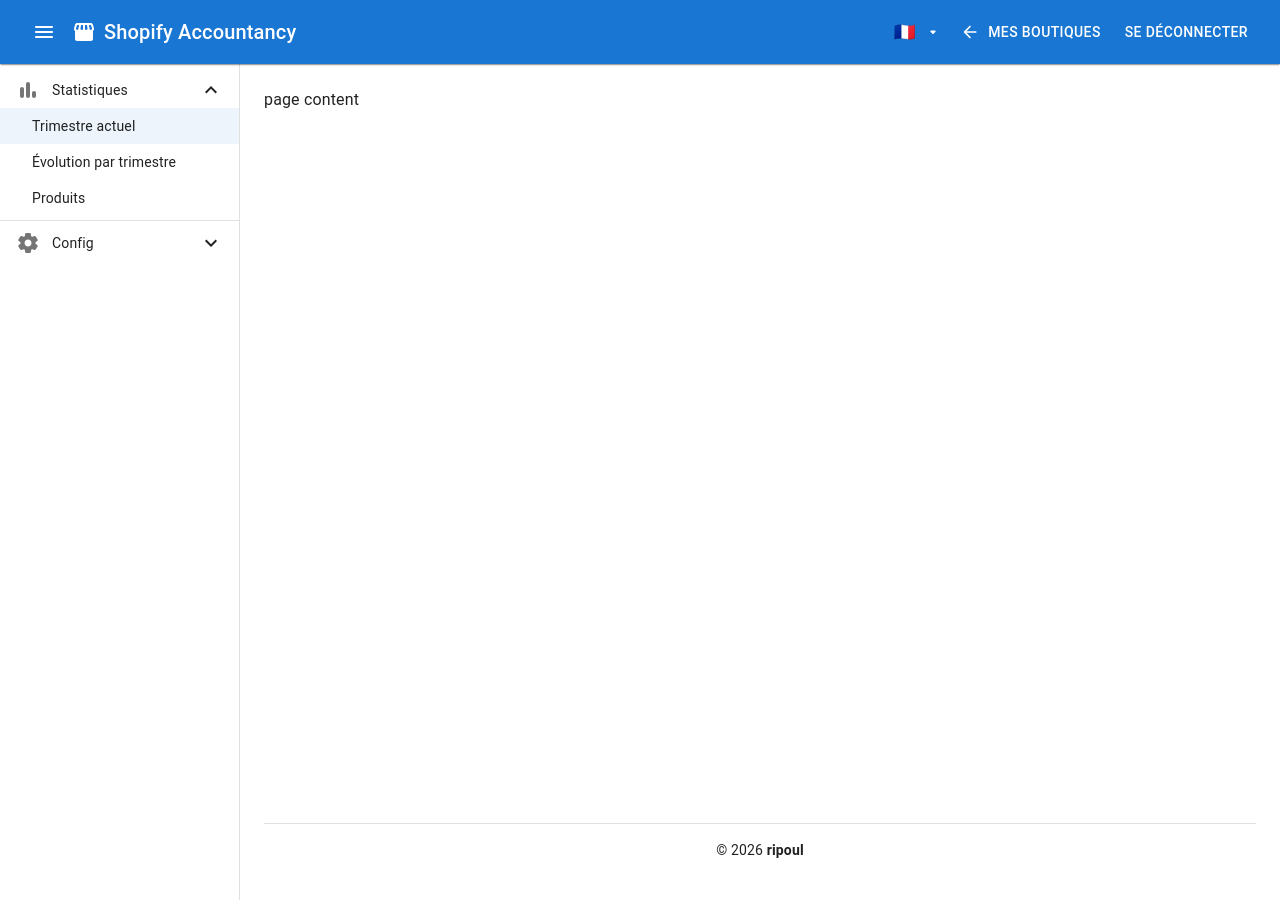
it: StoreLayout › clicking the menu icon toggles sidebar collapse
Expected: the text "Statistiques" is shown, [52, 82, 128, 98]
Click the button named "basculer le menu" at (44, 32), box [24, 12, 64, 52]
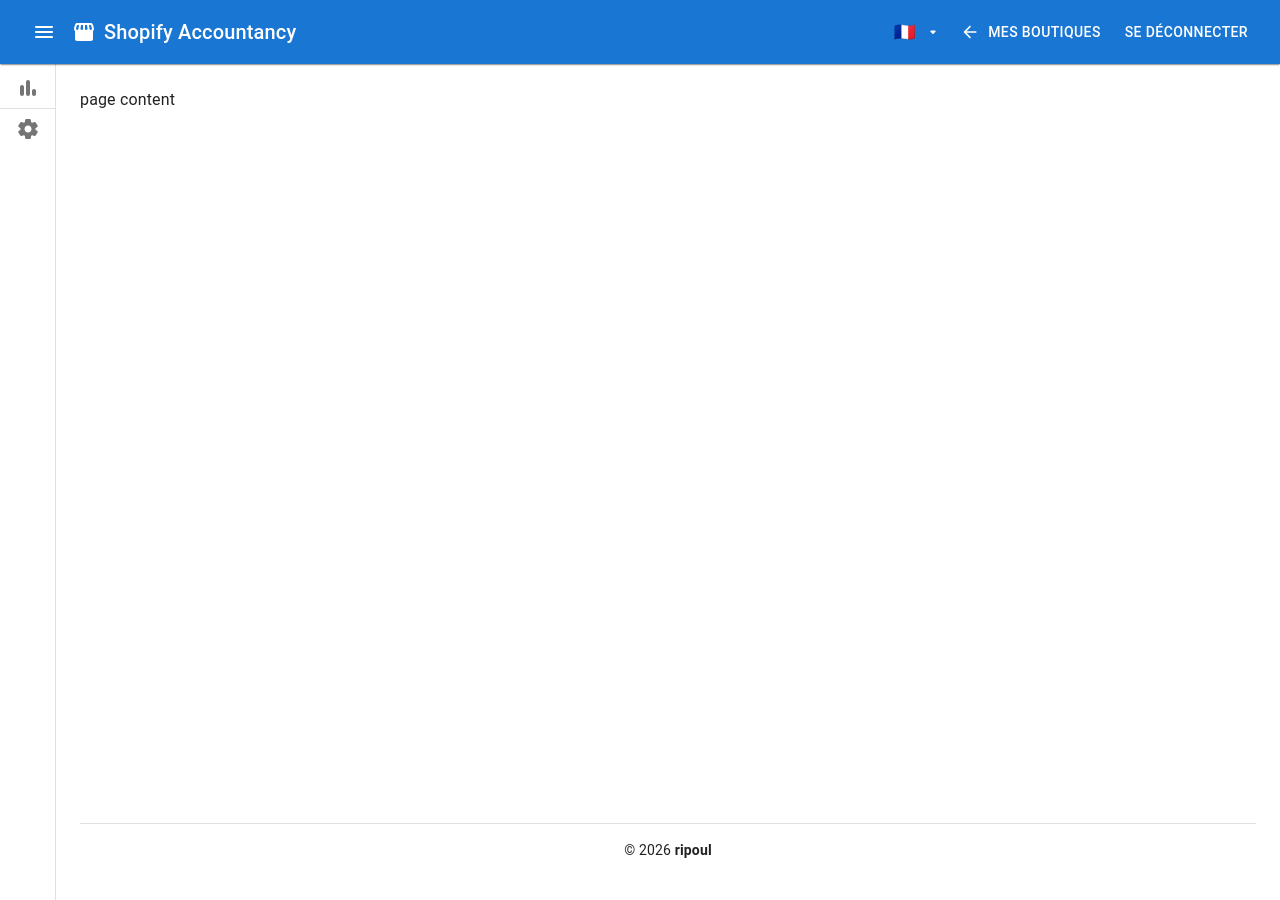
Now the text "Statistiques" is gone
